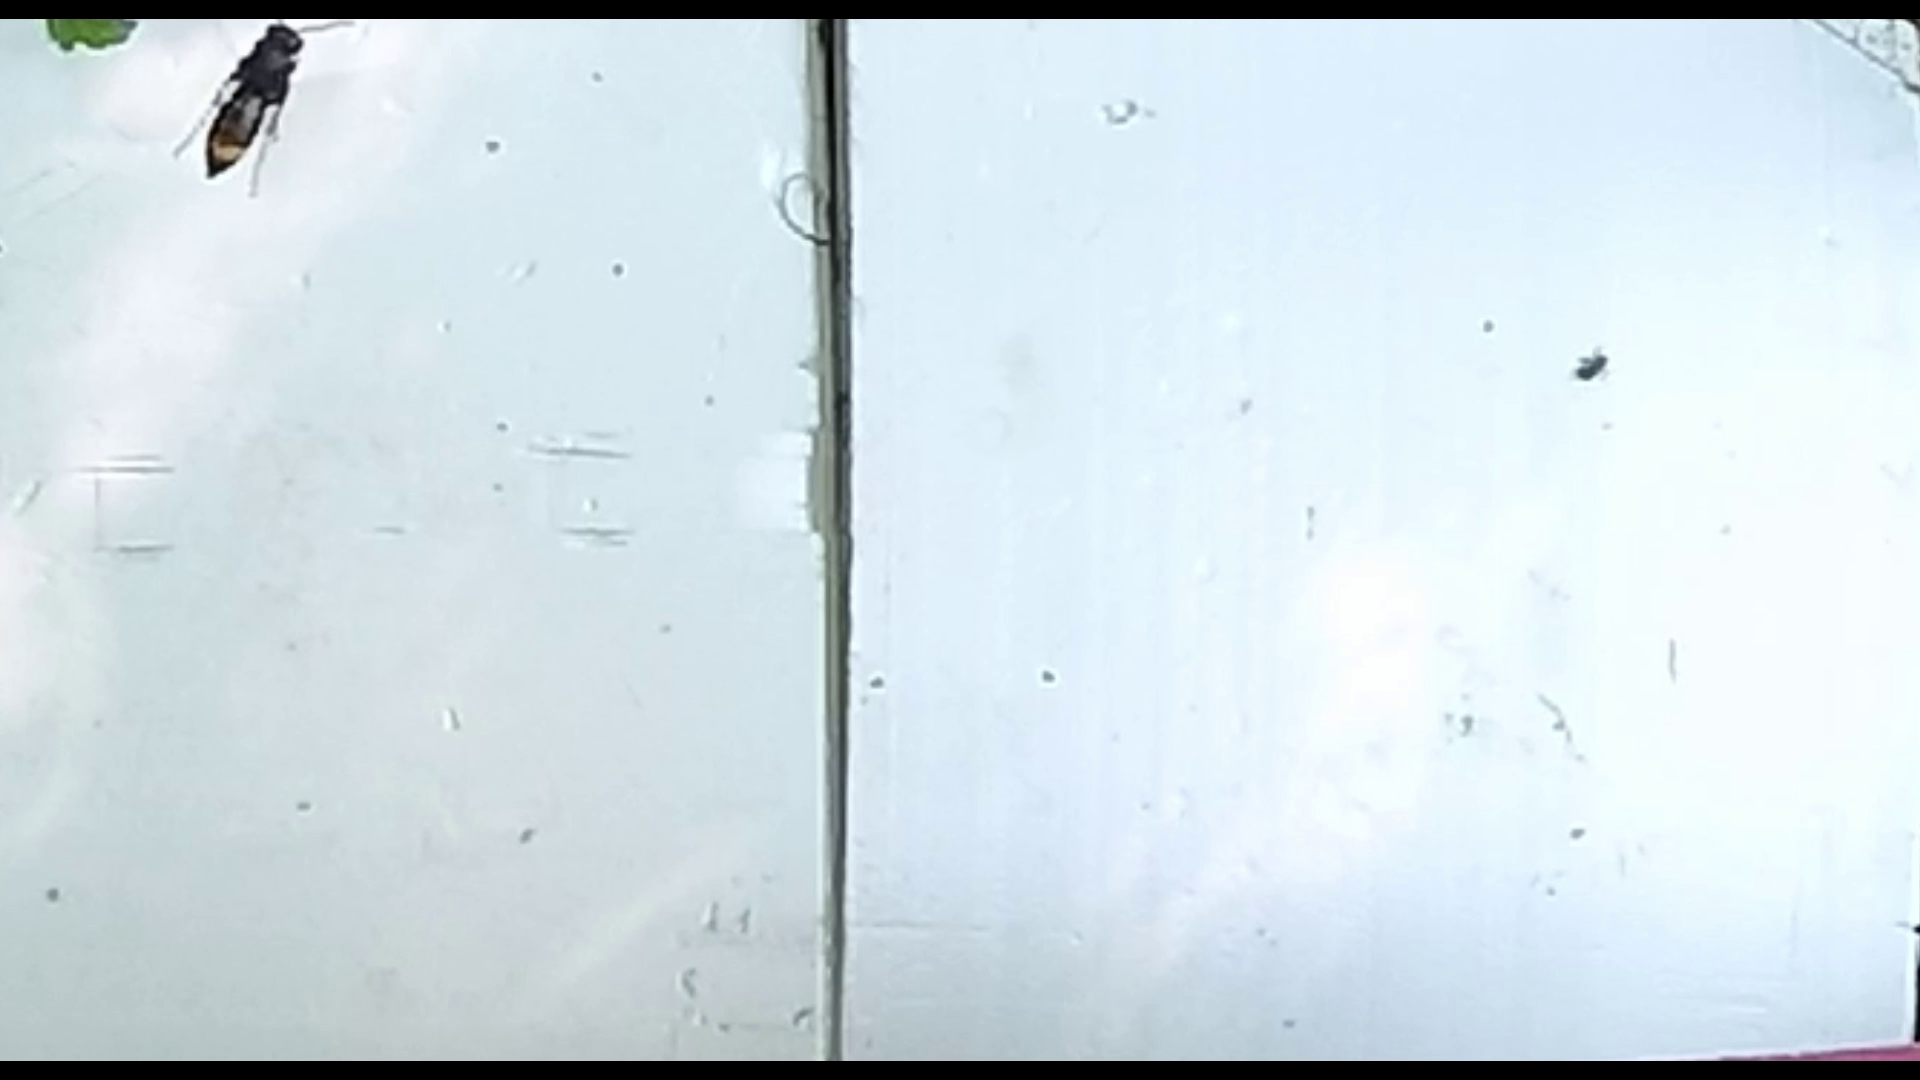Asian_hornets: (162, 16, 320, 203)
